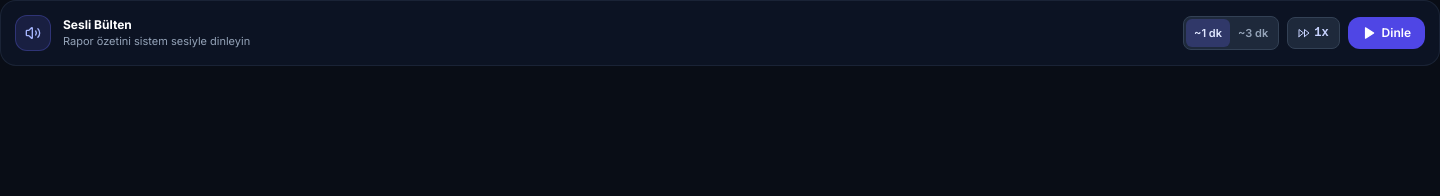
Scenario: AudioMemoPlayer › reads the summary with the native voice, pauses, resumes and stops
The image size is (1440, 196).
Click the button "Dinle".
click(1386, 33)  # box [1348,17,1425,49]
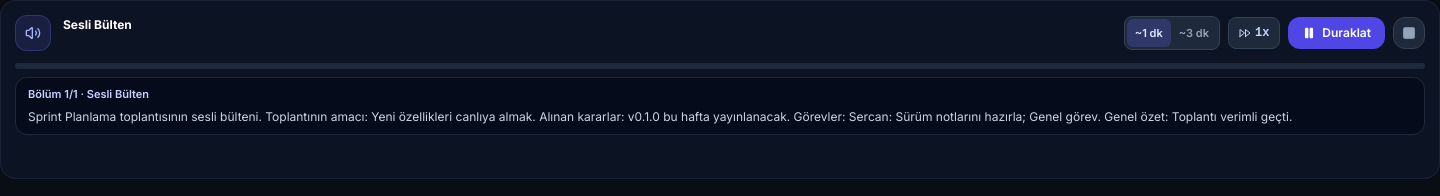
Click the button "Duraklat".
click(1337, 33)  # box [1288,17,1385,49]
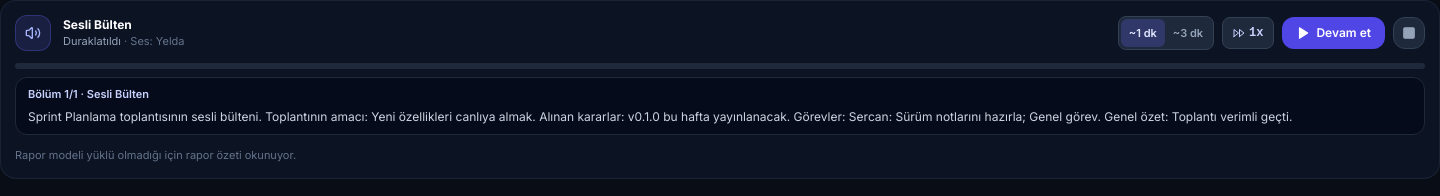
Result: the text "Duraklatıldı" is shown at [63,34,121,48]
Click the button "Devam et".
click(1334, 33)  # box [1282,17,1385,49]
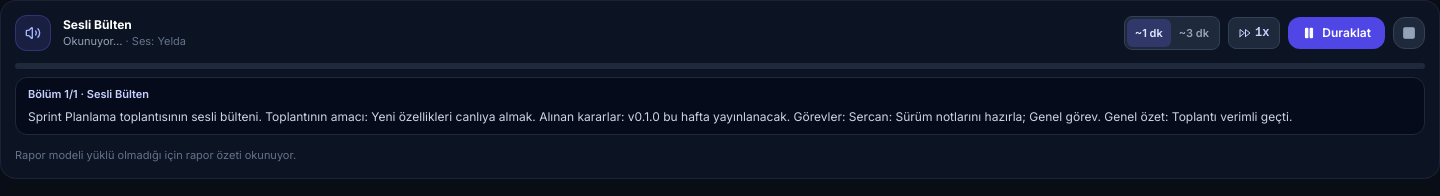
Click the button named "Durdur".
click(1409, 33)  # box [1393,17,1425,49]
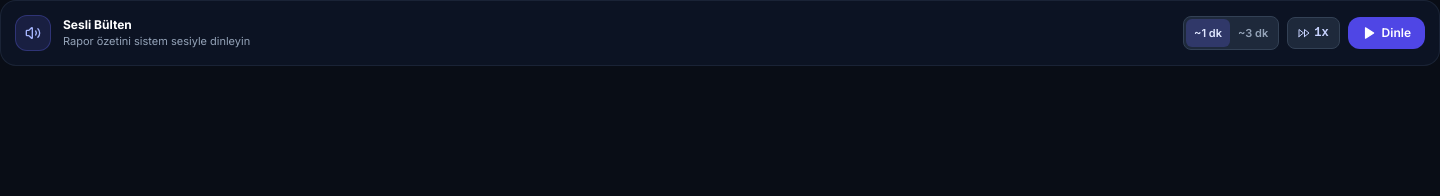
Result: the button "Durdur" is gone
